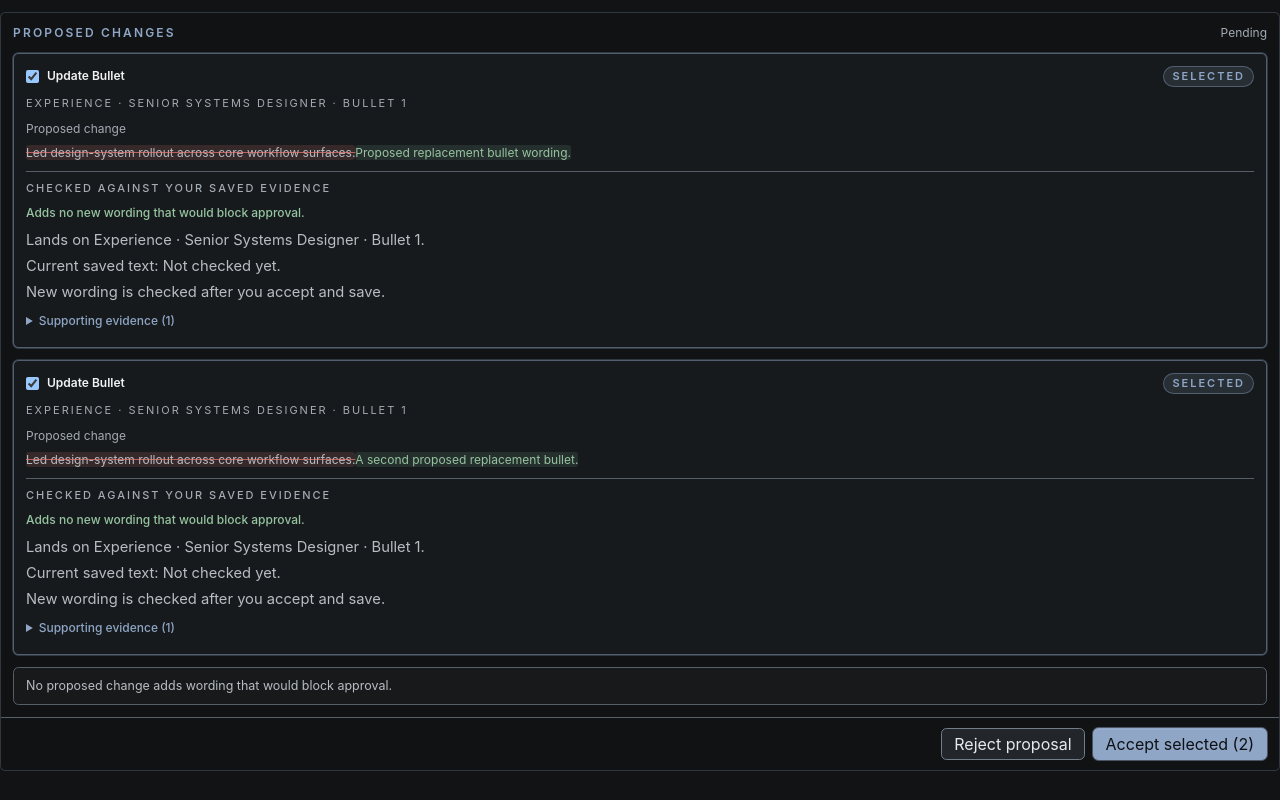
Test: ResumeAssistantProposalCard readable, selectable decisions › gives every selected change a visible selected state matching the accept count
Expected: the text "Selected" is shown 2 times, [1164, 66, 1254, 87]; [1164, 373, 1254, 394]
Click the checkbox named "Select proposed change 2: update bullet" at (32, 383), box [26, 377, 39, 390]
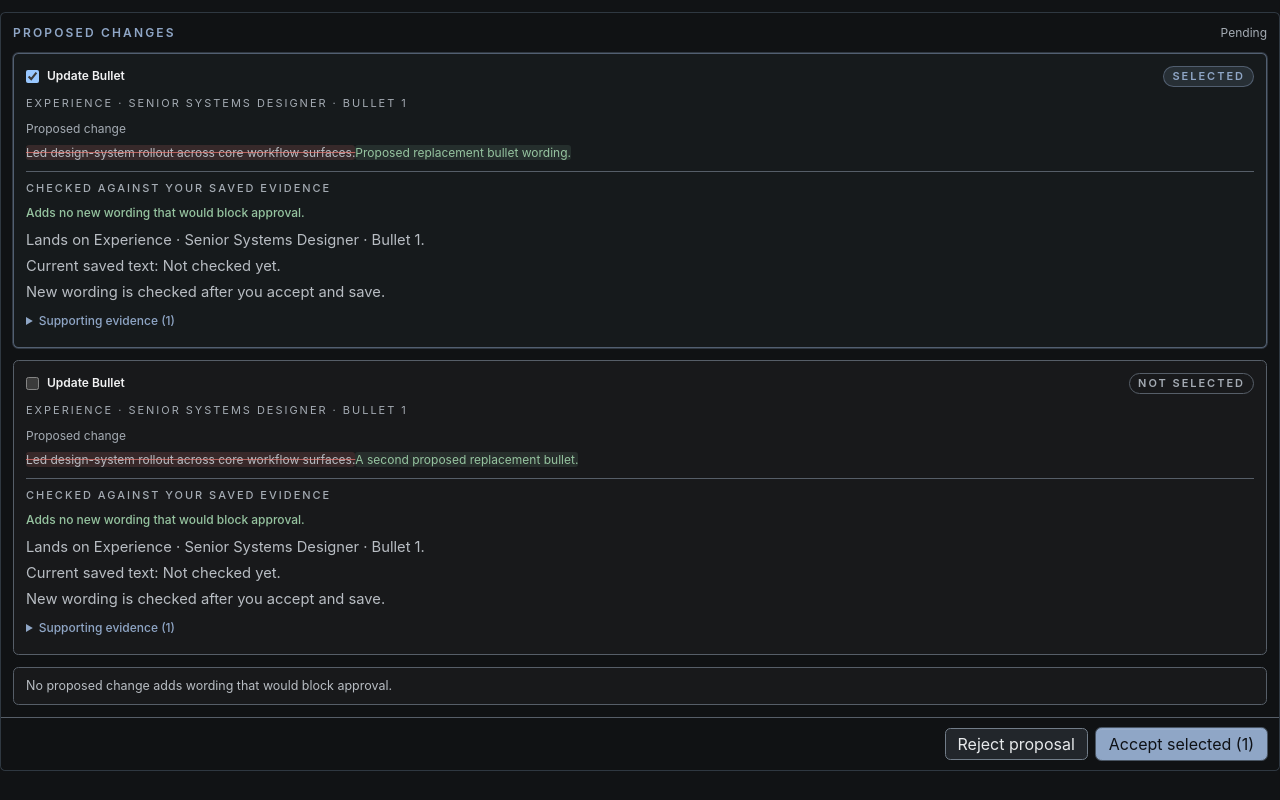
Expected: the text "Not selected" is shown, [1129, 373, 1254, 394]
